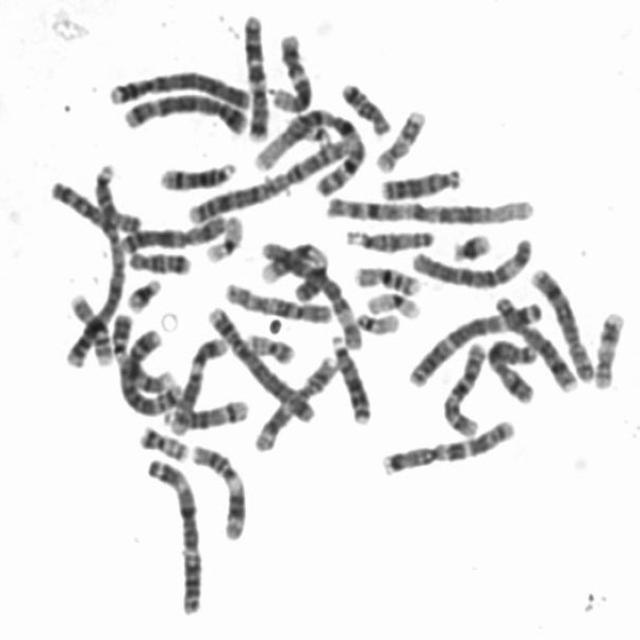A1: (247, 100, 367, 198), (315, 184, 539, 228)
A2: (180, 127, 358, 224), (54, 157, 128, 369)
A3: (403, 292, 545, 388), (138, 448, 206, 616)
B4: (199, 295, 320, 425), (101, 61, 254, 110)
B5: (101, 310, 184, 419), (114, 85, 251, 135)
C10: (217, 274, 337, 325), (434, 333, 489, 440)
C11: (247, 347, 342, 453), (183, 435, 249, 542)
C12: (161, 326, 231, 436), (263, 26, 315, 114)
C6: (254, 232, 366, 352), (404, 229, 536, 291)
C7: (374, 410, 518, 477), (236, 5, 272, 143)
C8: (487, 287, 580, 393), (525, 257, 598, 383)
C9: (105, 305, 179, 397), (256, 243, 329, 303)
D13: (324, 326, 374, 426), (373, 158, 464, 201)
D14: (159, 388, 252, 433), (151, 152, 240, 192)
D15: (42, 170, 146, 233), (338, 219, 438, 253)
E16: (61, 284, 116, 365), (347, 258, 424, 296)
E17: (369, 100, 428, 174), (587, 302, 626, 390)
E18: (333, 74, 393, 138), (121, 241, 194, 276)
F19: (199, 205, 247, 264), (359, 283, 423, 319)
F20: (132, 417, 191, 462), (240, 324, 297, 365)
G21: (444, 224, 495, 264), (119, 269, 163, 314)
G22: (288, 114, 336, 150), (350, 304, 402, 336)
X: (113, 208, 232, 255), (480, 331, 542, 405)
